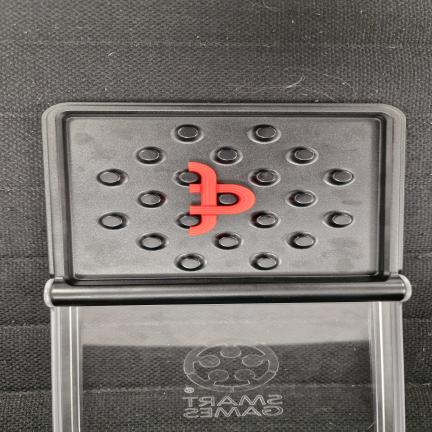E_Red: (189, 163, 255, 235)
board: (42, 103, 408, 306)
hinge: (46, 279, 411, 302)
pin: (255, 126, 276, 139), (100, 171, 120, 184), (177, 127, 198, 139), (294, 149, 315, 161), (140, 194, 161, 206), (101, 216, 123, 227), (217, 149, 237, 161), (139, 149, 159, 161), (332, 171, 352, 183), (218, 193, 238, 205), (332, 214, 352, 226), (142, 237, 162, 249), (293, 236, 314, 247), (180, 258, 201, 269), (179, 171, 198, 183), (256, 171, 275, 183), (294, 193, 314, 204), (256, 215, 276, 226), (218, 236, 238, 247), (256, 257, 276, 268), (180, 215, 199, 226)
